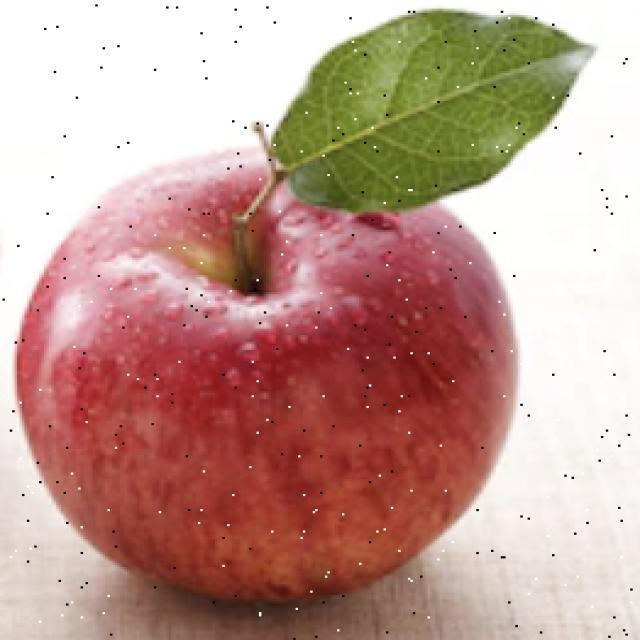Fresh Apple: (15, 164, 508, 568)
